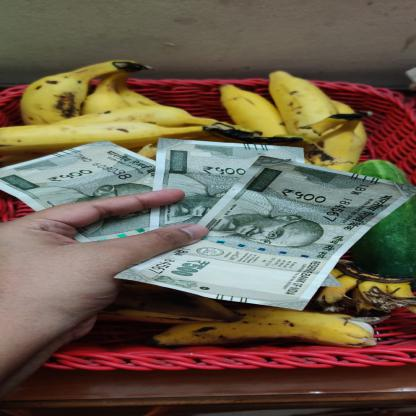New500Front: (114, 155, 415, 311), (0, 140, 158, 244), (150, 137, 306, 231)
